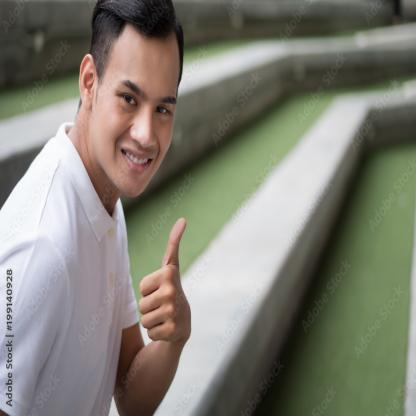Thumbs-Up: (138, 216, 192, 343)
